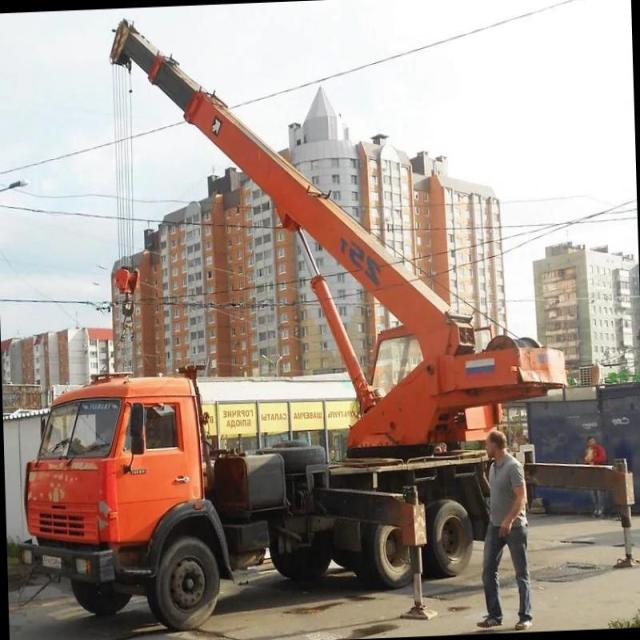crane: (1, 0, 640, 639)
